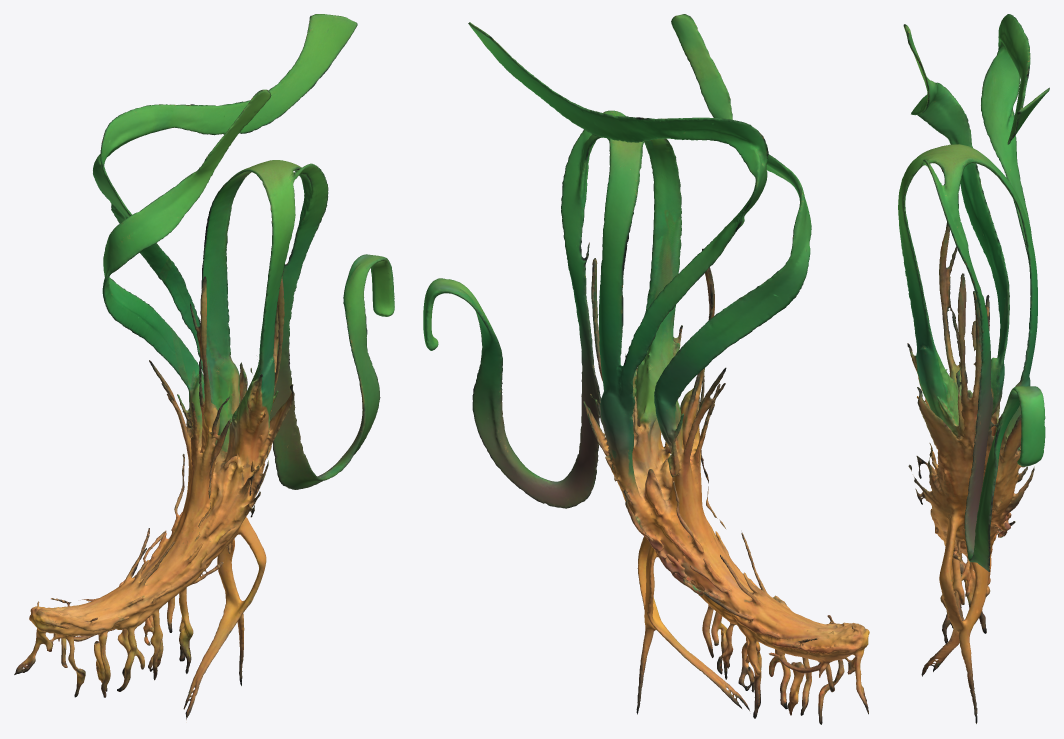
Rendered from enhalus_acoroides.glb.
3 views of the same model, side by side, from view 1: azimuth 30°, elevation 25°; view 2: azimuth 150°, elevation 25°; view 3: azimuth 270°, elevation 25° (orthographic). The views are drawn at different scales.
Size of the model in its own units: 1.32 by 2 by 0.3963.
1 material, 1 textured.
